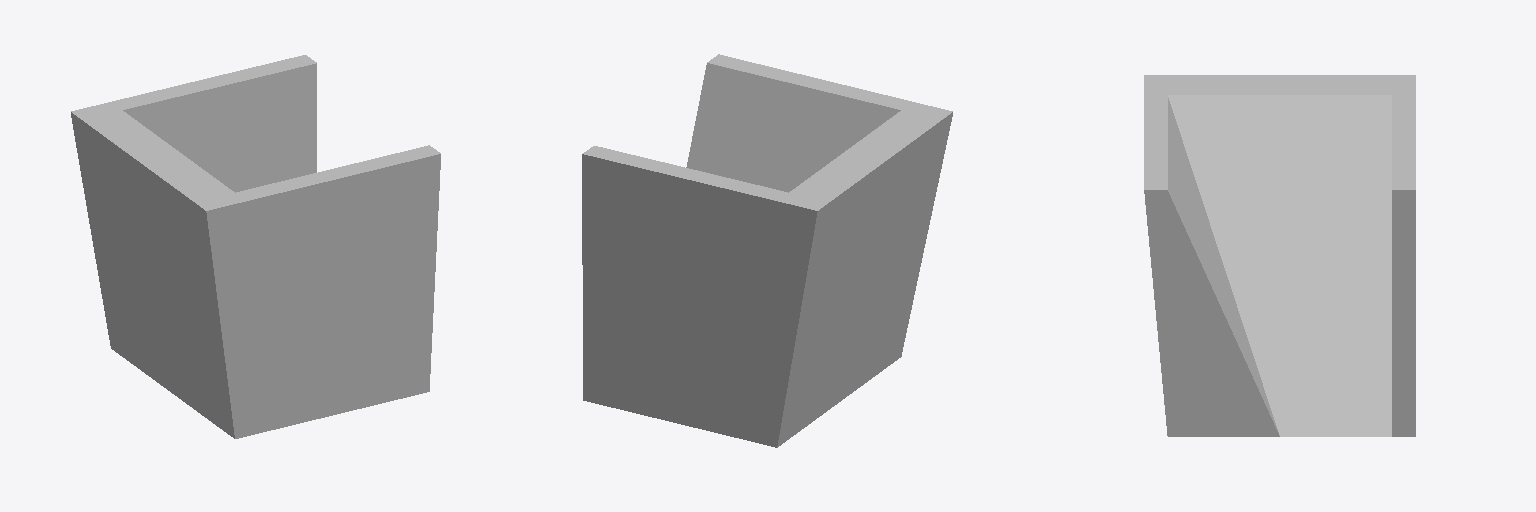
The model's file is gutter_cornerL.obj.
3 views of the same model, side by side, from view 1: azimuth 30°, elevation 25°; view 2: azimuth 150°, elevation 25°; view 3: azimuth 270°, elevation 25° (orthographic).
Parts seen in each view (by area): view 1: Box024; view 2: Box024; view 3: Box024.
Part boxes in pixels (x1,y1,x2,y2): Box024: (71,55,440,438); Box024: (582,54,952,447); Box024: (1144,75,1415,436).
Bounding box in the file's own units: 12.79 × 12.81 × 12.79.